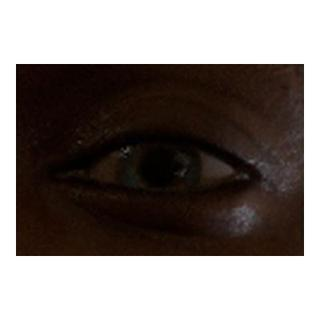pupil: (143, 151, 177, 185)
